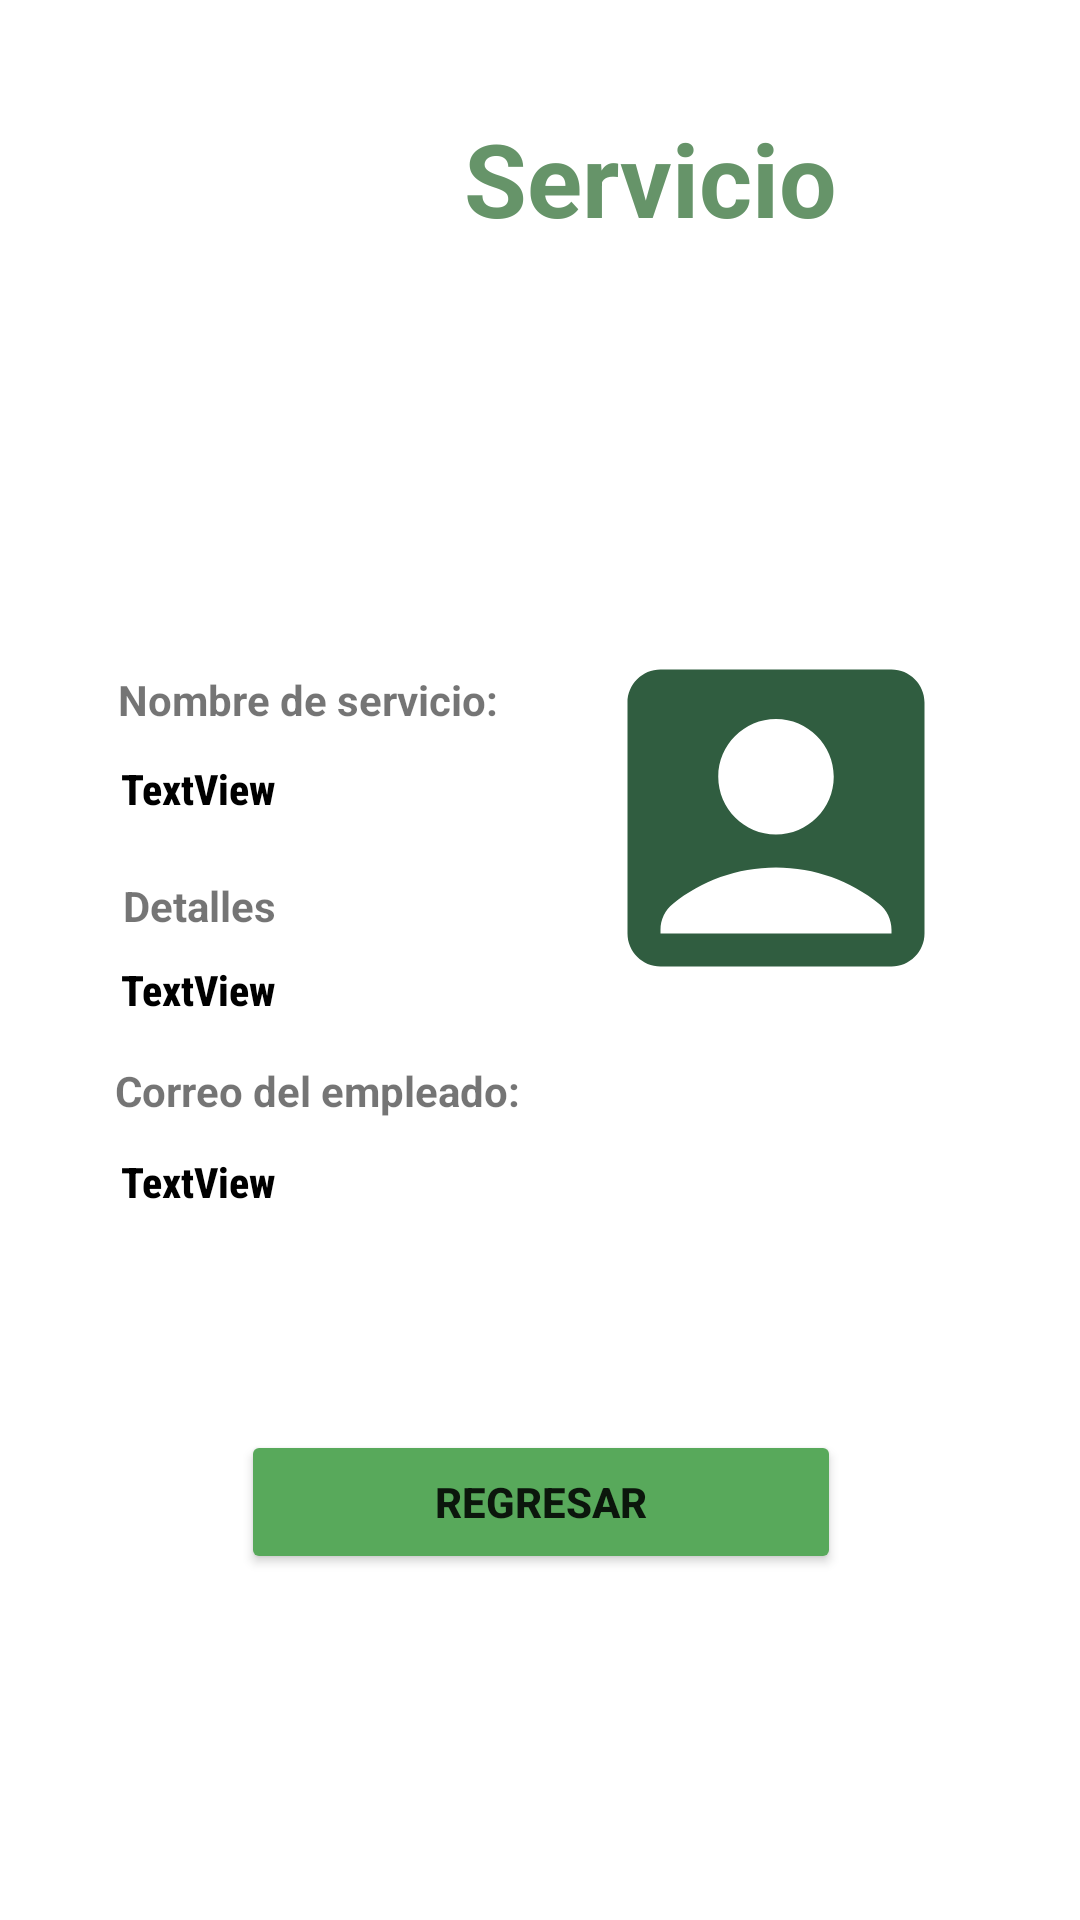

Screen size 1080 x 1920. Icon name, then its center in pixels as (x,y):
account box: (776,818)
